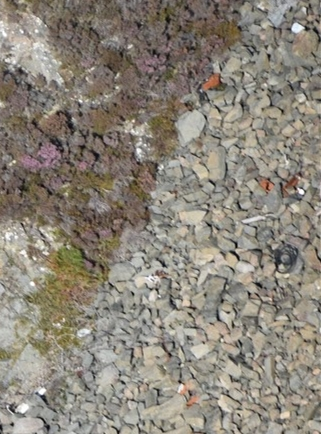white_in_green: (242, 148, 317, 220), (1, 366, 67, 434), (251, 230, 318, 289), (184, 50, 243, 111), (270, 1, 321, 51), (227, 196, 278, 245)
